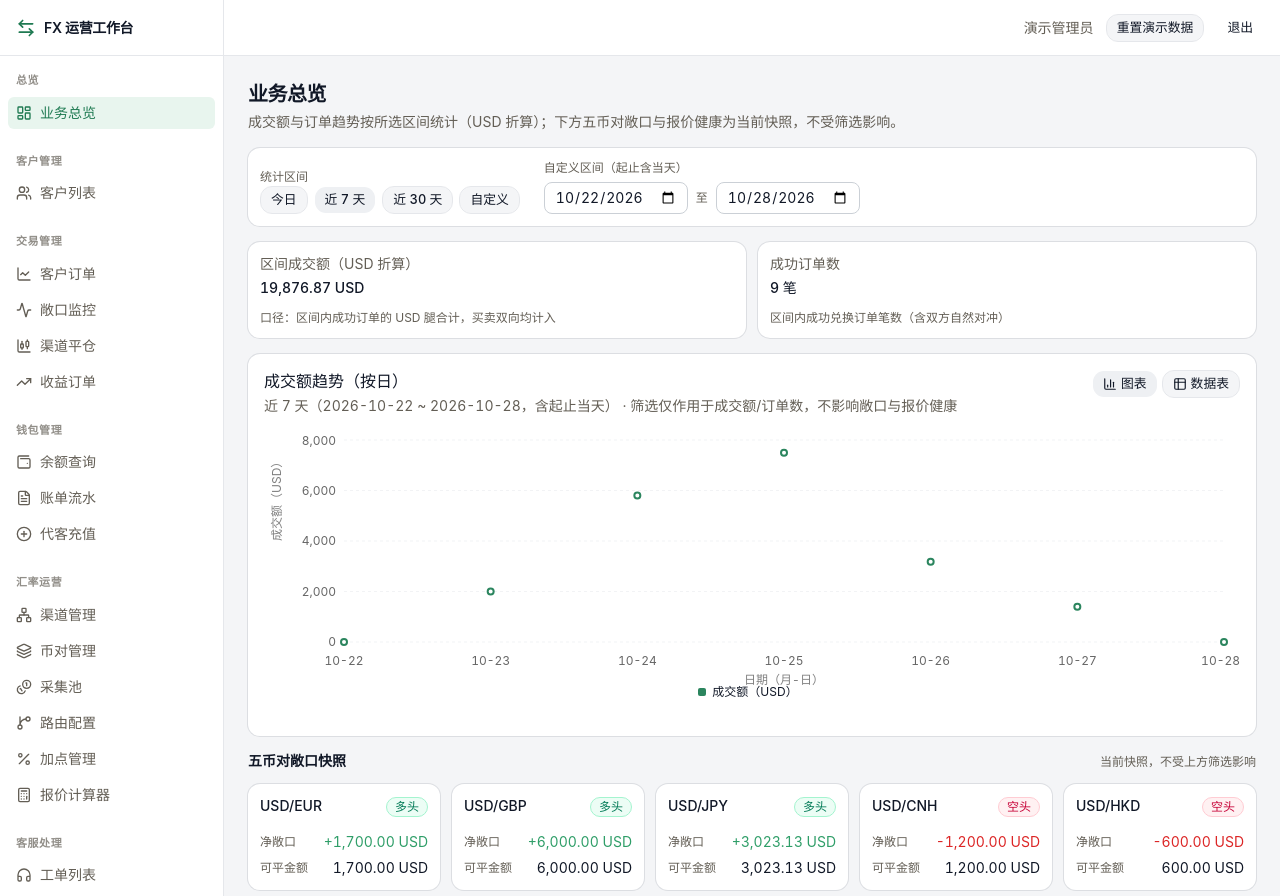
Test: 图表 / 数据表等价视图 › 切到数据表后含与图表等价的逐日数值（含零成交日与订单数）
This screenshot has width=1280, height=896.
Click the button "数据表" at coordinates (1201, 384), box [1162,370,1240,398]
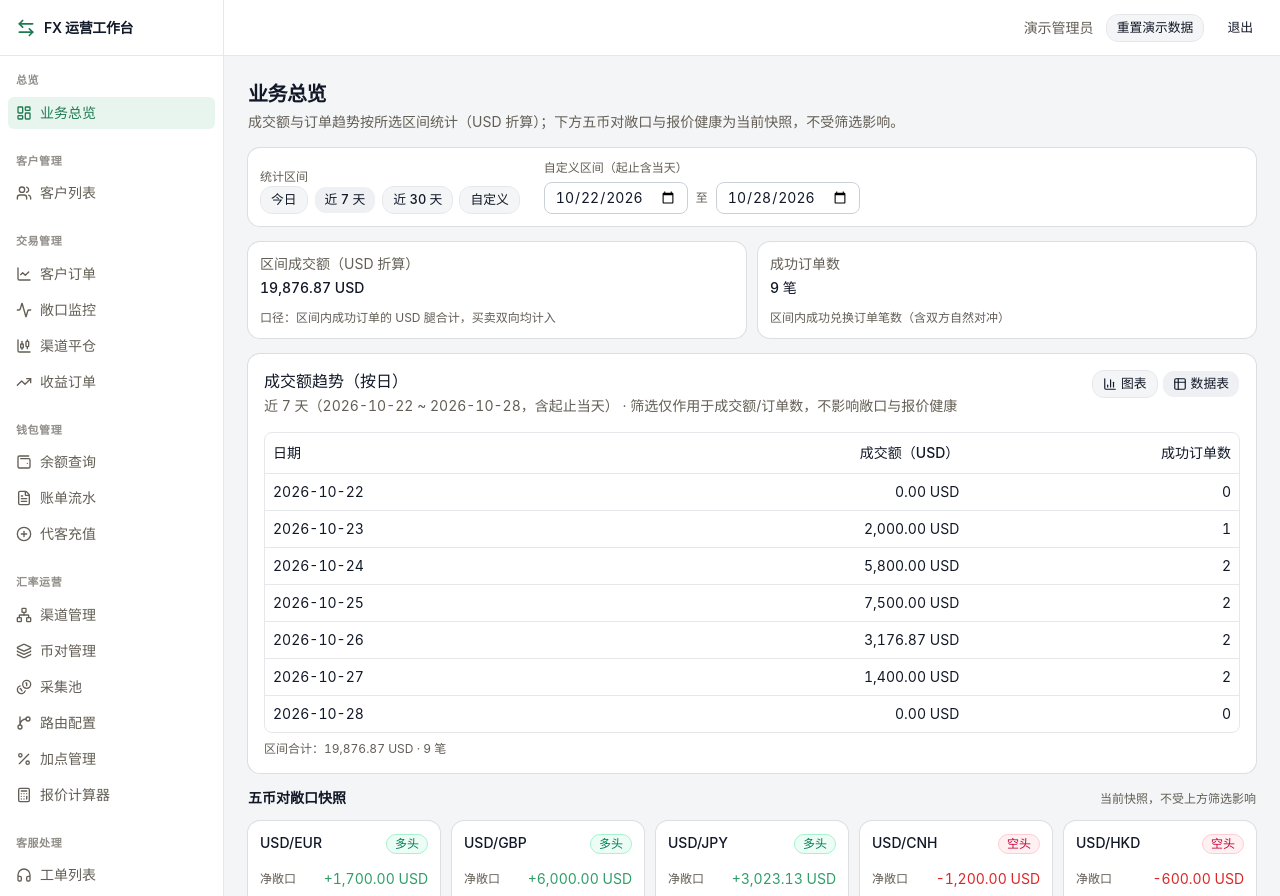
Check: the icon is gone
Check: the text "区间合计：19,876.87 USD · 9 笔" is shown, box [264,740,446,756]
Click the button "图表" at coordinates (1125, 384), box [1092,370,1158,398]
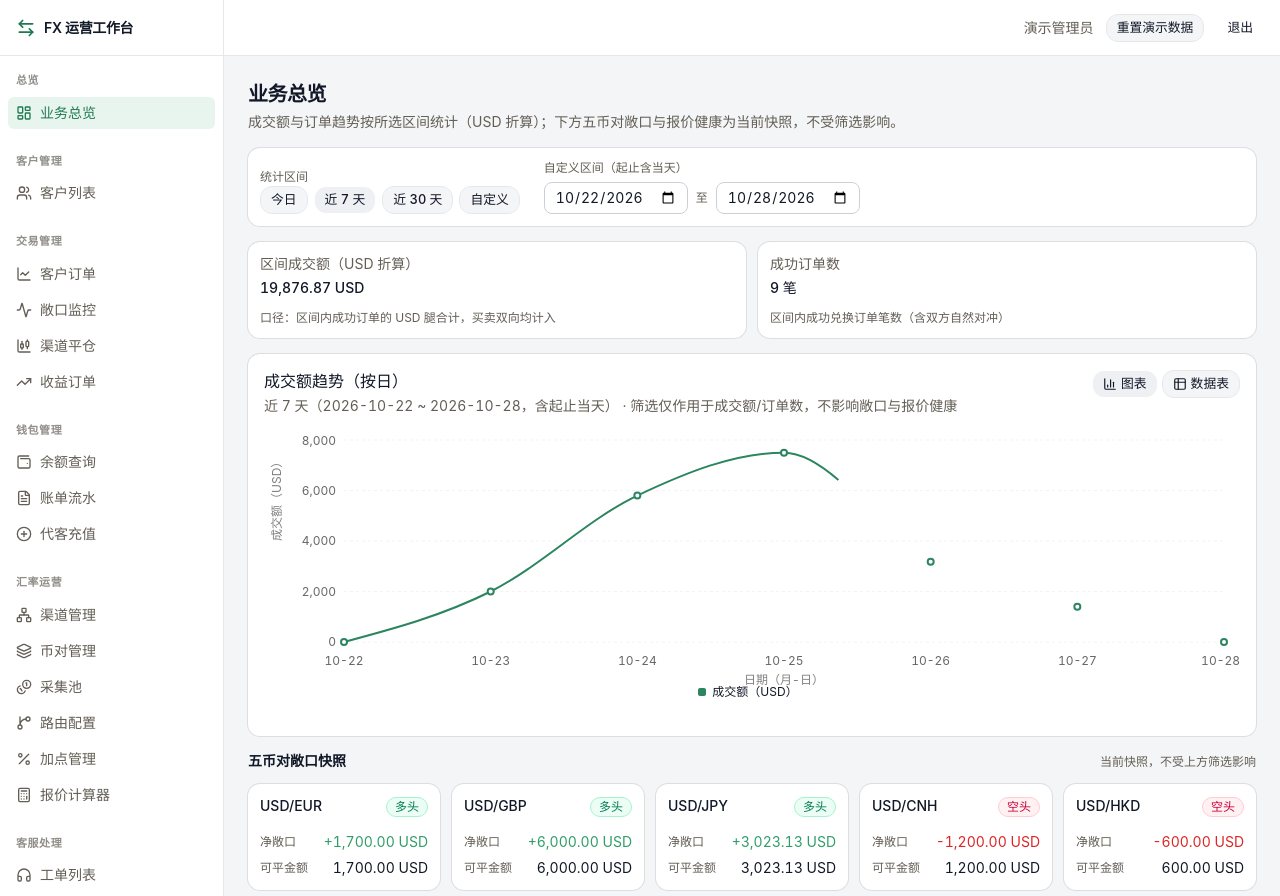
Check: the icon that starts with "日期（月-日）" is shown, box [264,432,1240,720]
